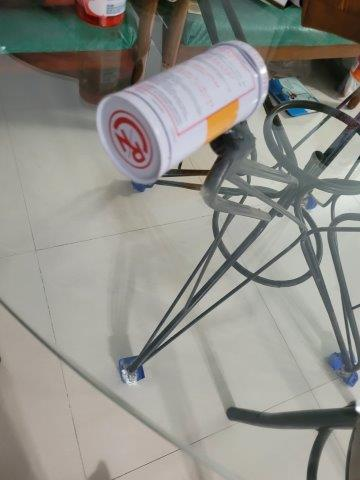kaleng: (97, 38, 266, 185)
